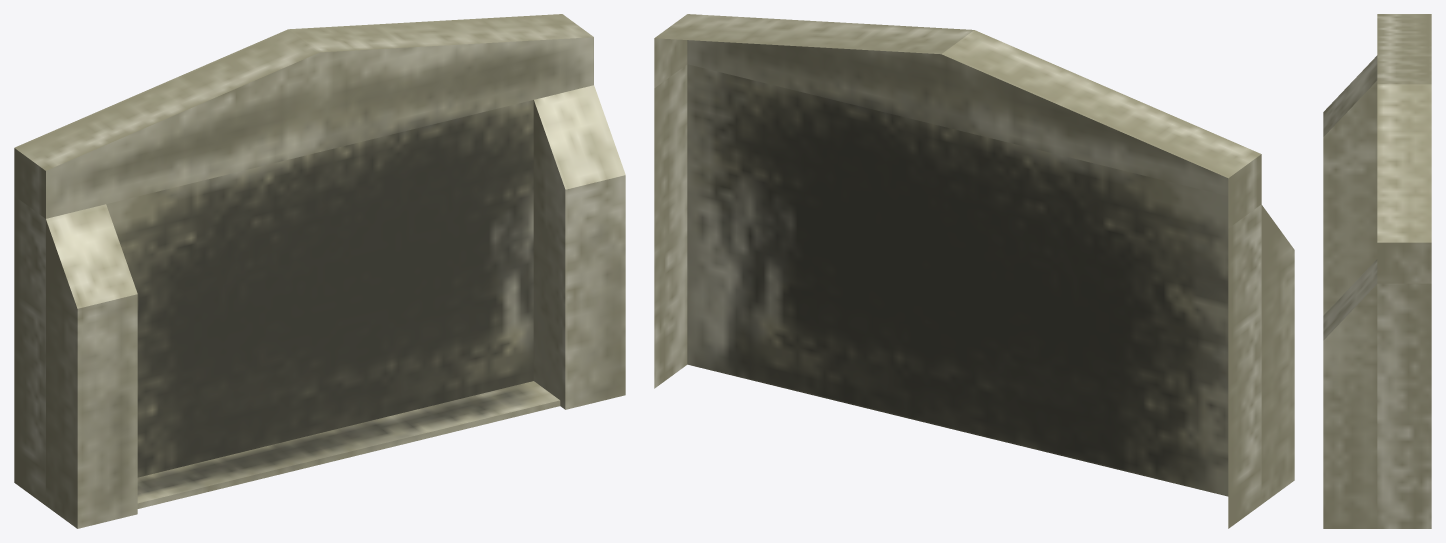
Rendered from Fireplace.fbx.
3 views of the same model, side by side, from view 1: azimuth 30°, elevation 25°; view 2: azimuth 150°, elevation 25°; view 3: azimuth 270°, elevation 25° (orthographic). The views are drawn at different scales.
Parts seen in each view (by area): view 1: polySurface1; view 2: polySurface1; view 3: polySurface1.
Boxes of the visible parts, x1,y1,x2,y2 form: polySurface1: (14, 14, 625, 528); polySurface1: (654, 14, 1294, 528); polySurface1: (1323, 14, 1431, 528).
Size of the model in its own units: 0.04 by 0.0269 by 0.008.
1 material, 1 textured.
